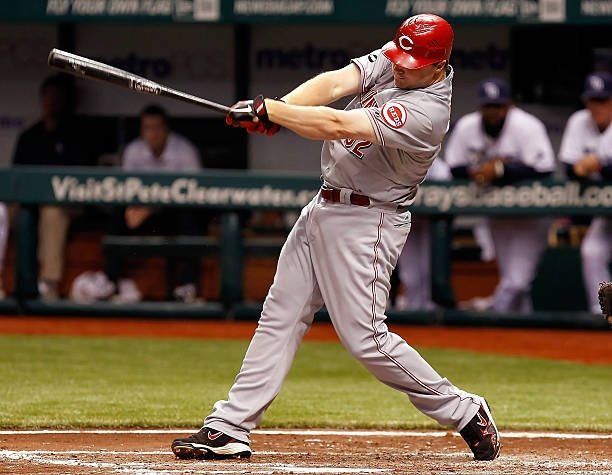bita: (49, 46, 253, 126)
